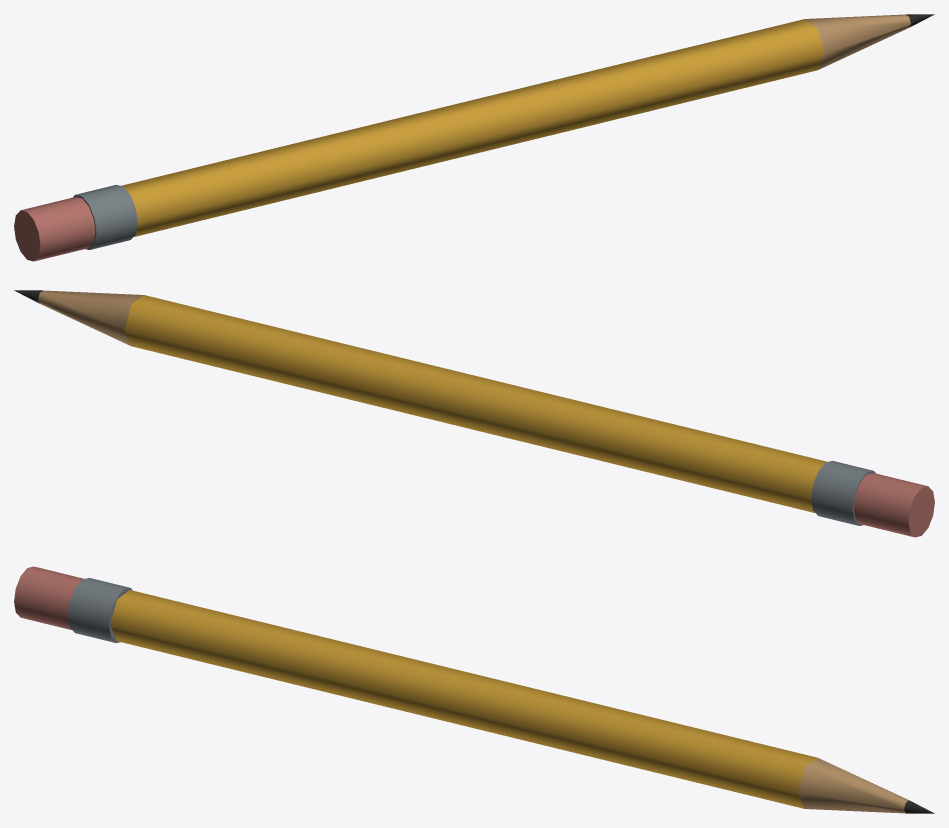
The model's file is workshop-pencil.glb.
The picture shows the model from 3 angles, top to bottom: view 1: azimuth 30°, elevation 25°; view 2: azimuth 150°, elevation 25°; view 3: azimuth 330°, elevation 25°; orthographic projection.
Visible parts, largest first — view 1: Pencil; view 2: Pencil; view 3: Pencil.
Boxes of the visible parts, left/top/right/bottom form: Pencil: left=14, top=14, right=934, bottom=261; Pencil: left=14, top=290, right=934, bottom=537; Pencil: left=14, top=566, right=934, bottom=813.
Bounding box in the file's own units: 0.198 × 0.0108 × 0.0108.
